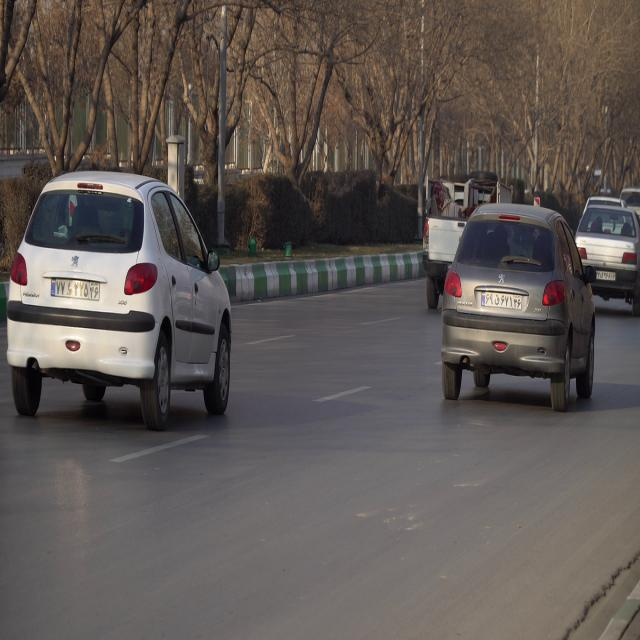truck: (7, 167, 232, 420), (441, 205, 591, 399), (422, 170, 514, 306), (574, 202, 638, 314)
